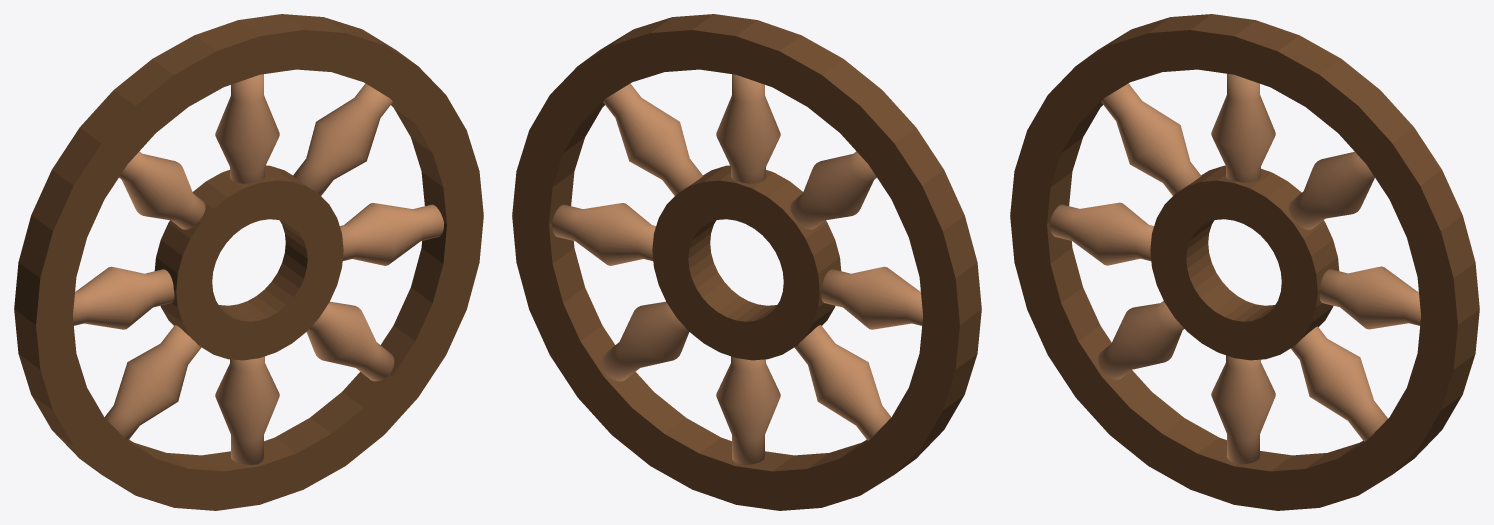
Rendered from wagon.gltf.
3 renders of one model, left to right at view 1: azimuth 30°, elevation 25°; view 2: azimuth 150°, elevation 25°; view 3: azimuth 330°, elevation 25°, orthographic.
Visible parts, largest first — view 1: Cylinder.017; view 2: Cylinder.017; view 3: Cylinder.017.
Part boxes in pixels (x1,y1,x2,y2): Cylinder.017: [14, 14, 483, 510]; Cylinder.017: [512, 14, 981, 510]; Cylinder.017: [1010, 14, 1479, 510].
Bounding box in the file's own units: 1.48 × 1.48 × 0.1853.
